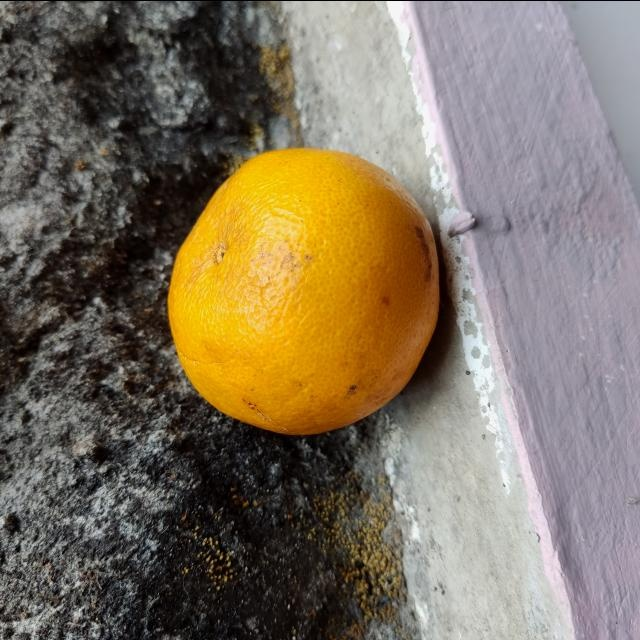agrume: (161, 142, 447, 442)
